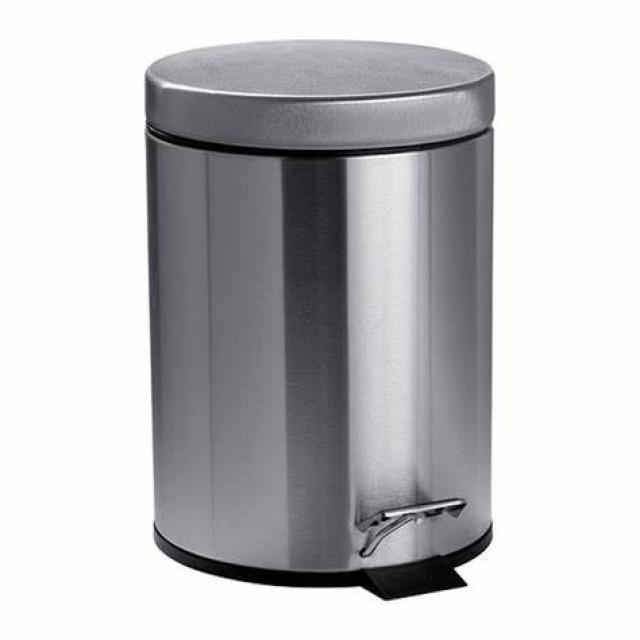garbage container: (106, 26, 535, 606)
